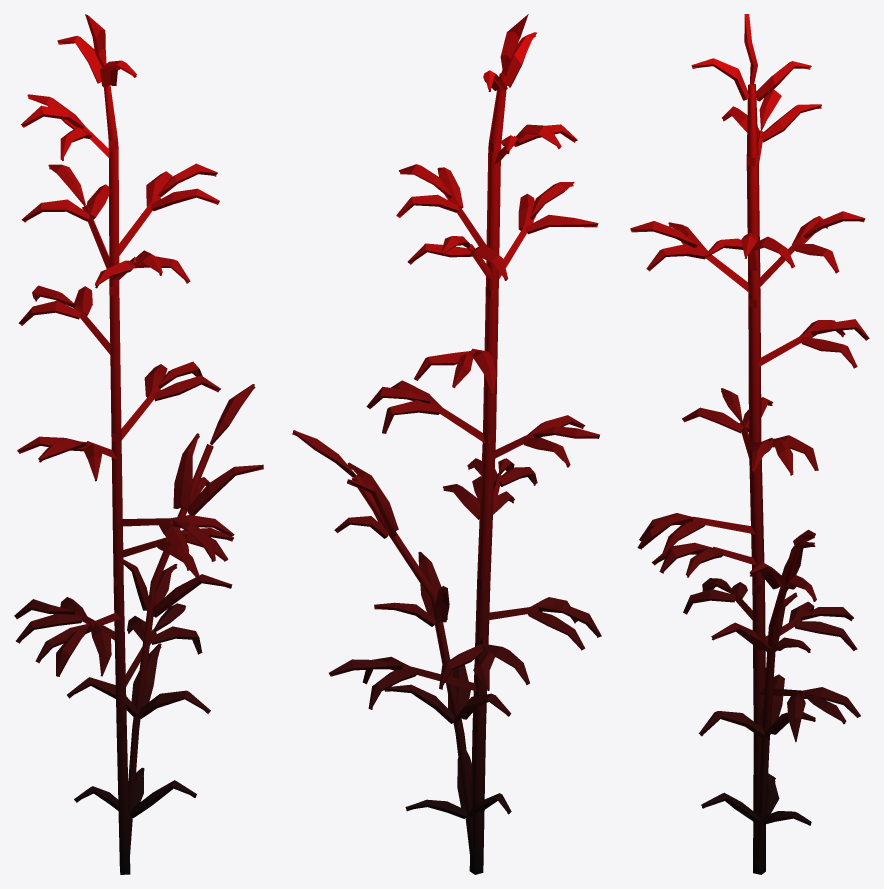
Rendered from TreeBamboo04.fbx.
3 views of the same model, side by side, from view 1: azimuth 30°, elevation 25°; view 2: azimuth 150°, elevation 25°; view 3: azimuth 270°, elevation 25° (orthographic). The views are drawn at different scales.
Parts seen in each view (by area): view 1: TreeBamboo04_LOD0; view 2: TreeBamboo04_LOD0; view 3: TreeBamboo04_LOD0.
Part boxes in pixels (left/top/right/bottom): TreeBamboo04_LOD0: left=14, top=14, right=263, bottom=874; TreeBamboo04_LOD0: left=292, top=14, right=601, bottom=874; TreeBamboo04_LOD0: left=630, top=14, right=869, bottom=874.
Size of what is drawn, in the model's own units: 128 by 406 by 105.
